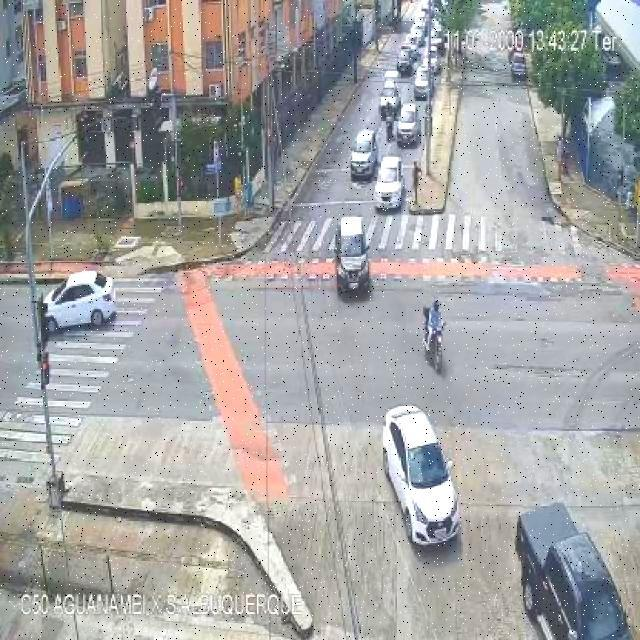Car: (381, 406, 461, 546), (42, 270, 118, 332), (334, 218, 371, 294), (373, 157, 404, 210), (350, 130, 379, 180), (397, 103, 420, 143), (397, 46, 418, 74), (413, 66, 431, 98), (509, 53, 526, 80), (424, 52, 440, 77), (429, 36, 443, 56)
Van: (379, 70, 404, 116)
